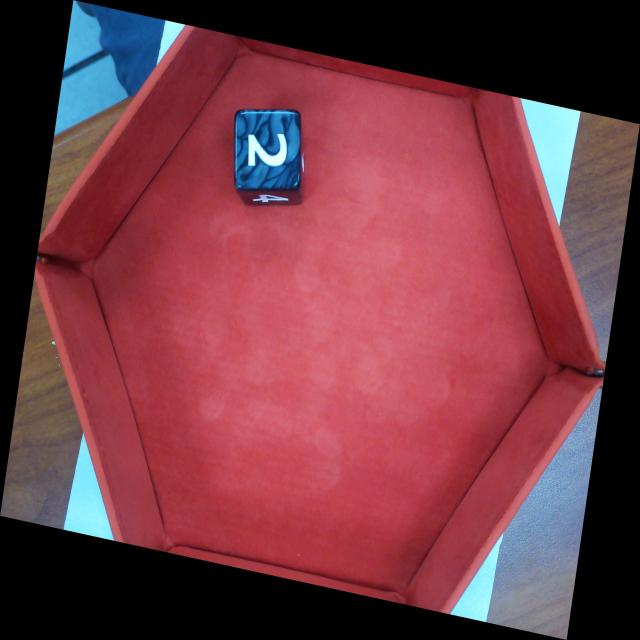dice: (232, 108, 302, 193)
